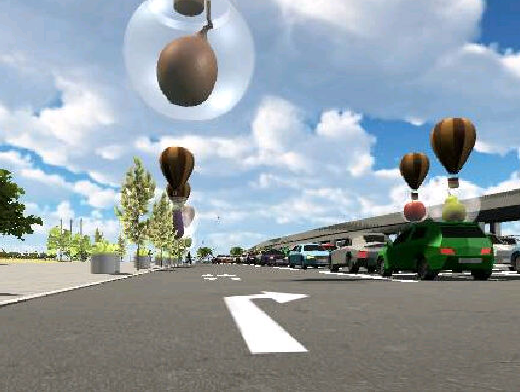ground_right: (219, 291, 311, 305)
